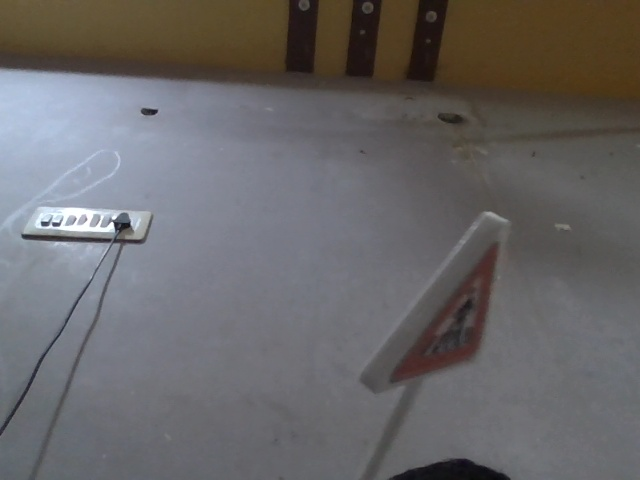crossing: (330, 219, 516, 385)
